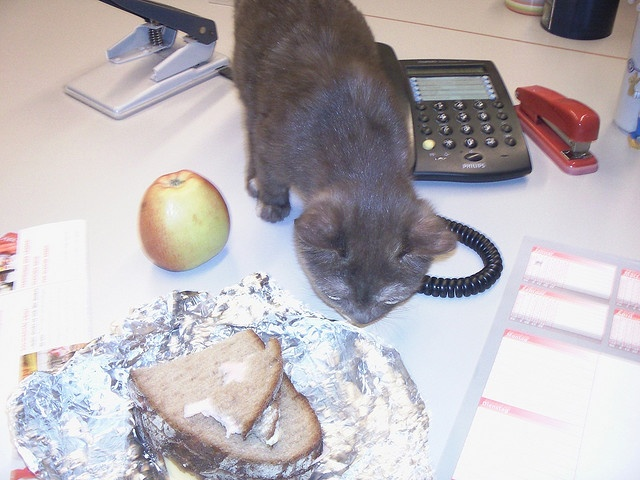cat: (231, 3, 640, 333)
